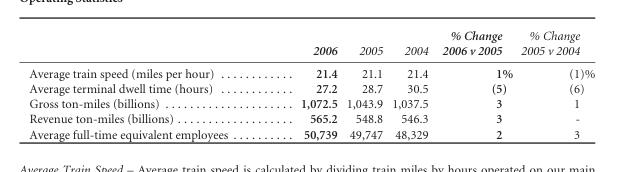table: (28, 28, 594, 140)
table column: (28, 28, 263, 140), (434, 28, 516, 140), (263, 28, 341, 140), (516, 28, 594, 140), (386, 28, 434, 140), (341, 28, 386, 140)
table column header: (28, 28, 594, 61)
table row: (28, 28, 594, 61), (28, 61, 594, 80), (28, 80, 594, 96), (28, 96, 594, 111), (28, 111, 594, 126), (28, 126, 594, 140)
